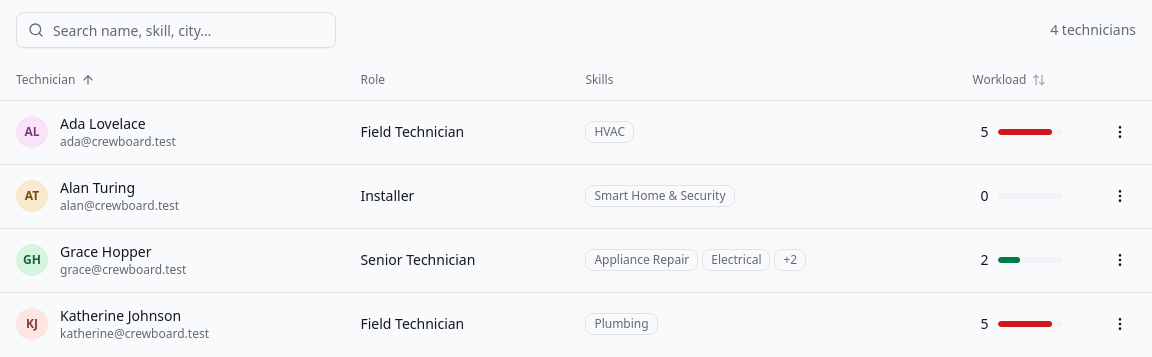
TechniciansTable › filters by specialty, including ones hidden behind the overflow badge
Type "water heaters" into the search field named "Search technicians". click: (176, 30)
box: 16,12 -> 336,48
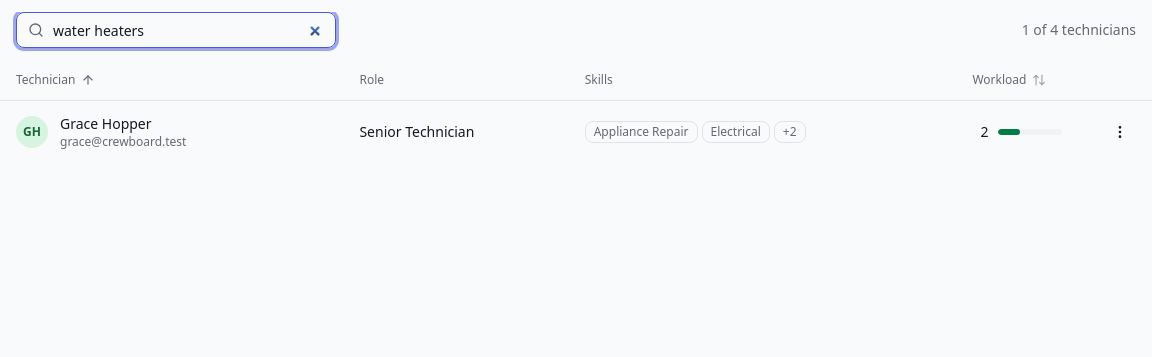
Expected: the text "technicians?" reads "1 of 4 technicians", 1022,20 -> 1136,39
